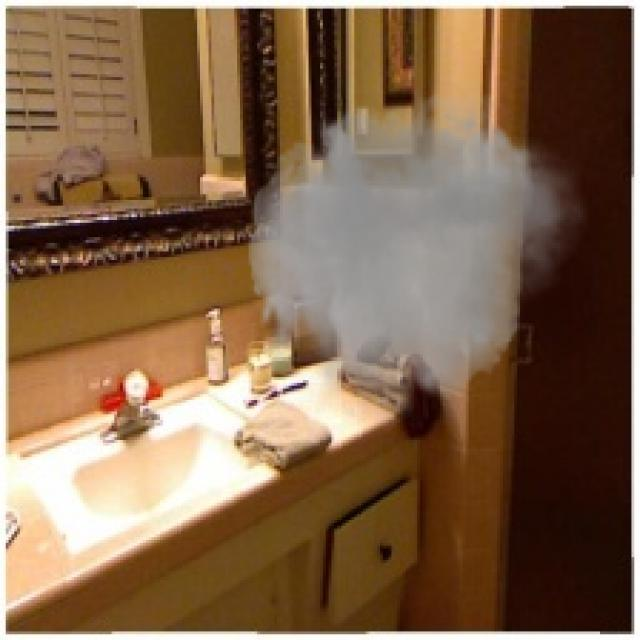Smoke: (240, 77, 589, 440)
